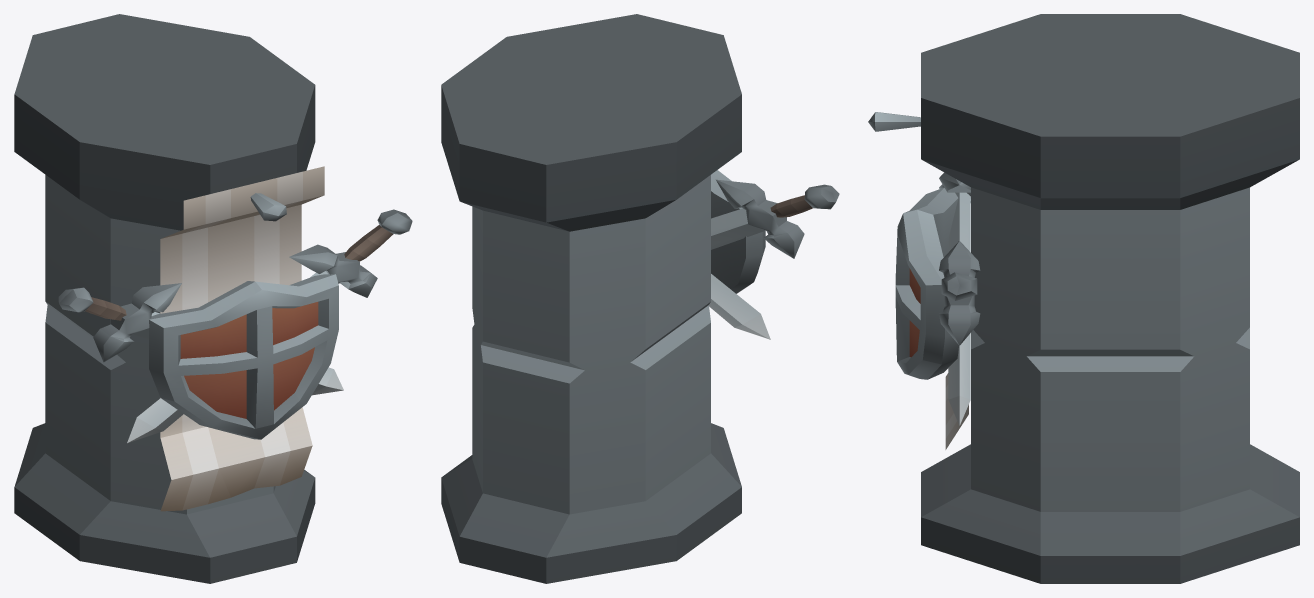
The model's file is Pedestal.glb.
The picture shows the model from 3 angles, left to right: view 1: azimuth 30°, elevation 25°; view 2: azimuth 150°, elevation 25°; view 3: azimuth 270°, elevation 25°; orthographic projection. The views are drawn at different scales.
Parts seen in each view (by area): view 1: pillar_decorated; view 2: pillar_decorated; view 3: pillar_decorated.
Boxes of the visible parts, <box> form: pillar_decorated: <box>14,14,412,583</box>; pillar_decorated: <box>441,14,839,583</box>; pillar_decorated: <box>868,14,1299,583</box>.
Bounding box in the file's own units: 0.7 × 0.8 × 0.7.
Materials: 1 (1 with a texture image).
